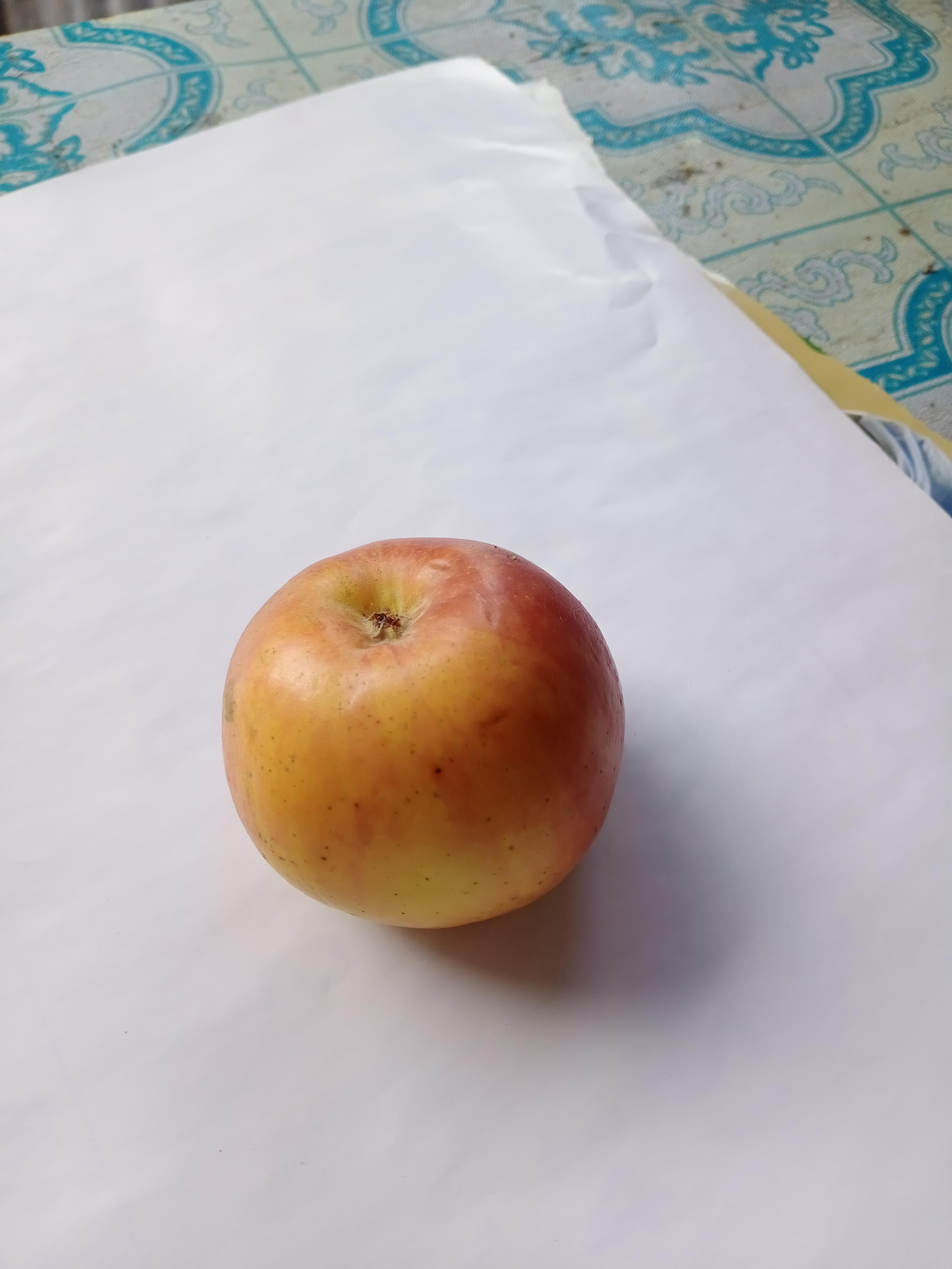Apple Ripe: (212, 529, 633, 958)
